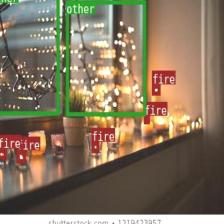fire: (16, 150, 25, 163), (151, 83, 160, 94), (91, 141, 99, 152), (0, 148, 6, 158), (143, 115, 149, 123)
